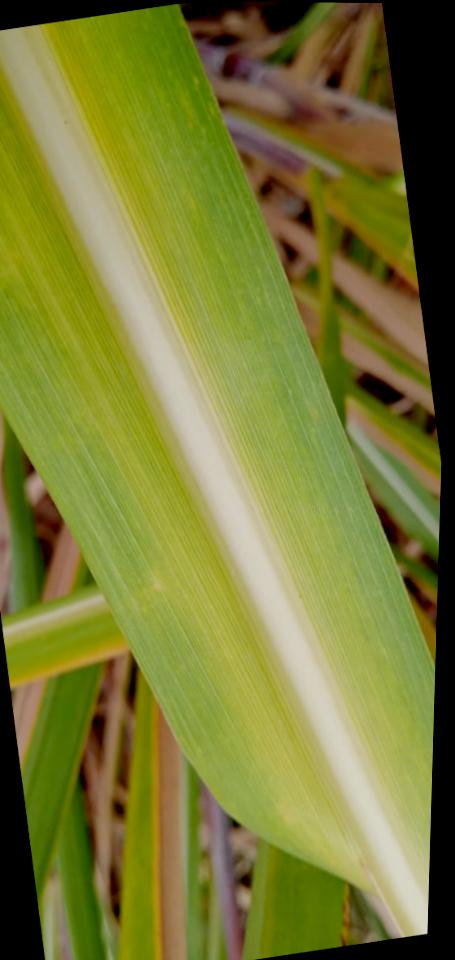Yellow: (152, 695, 187, 960), (9, 639, 129, 690)
